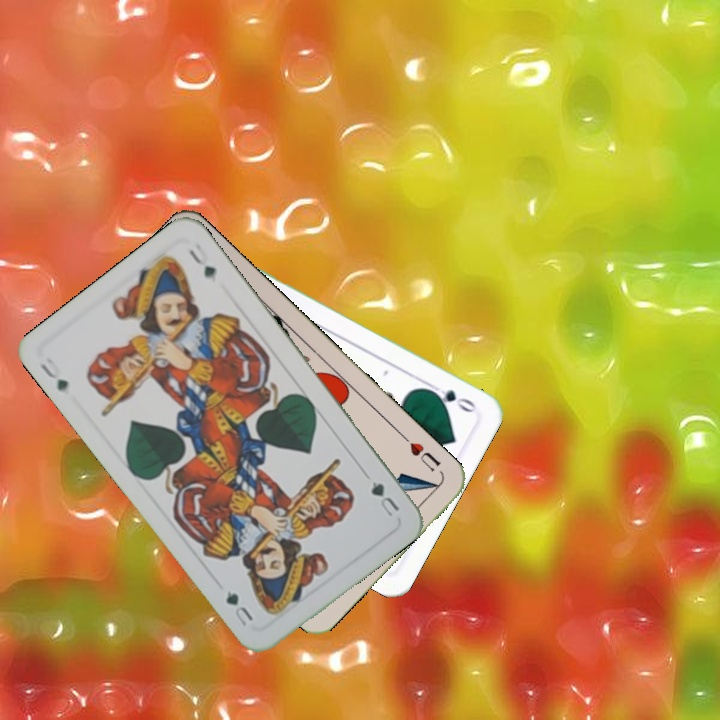GO: (423, 379, 480, 416)
GU: (367, 477, 402, 520), (35, 356, 71, 395)
HU: (398, 431, 443, 474)
